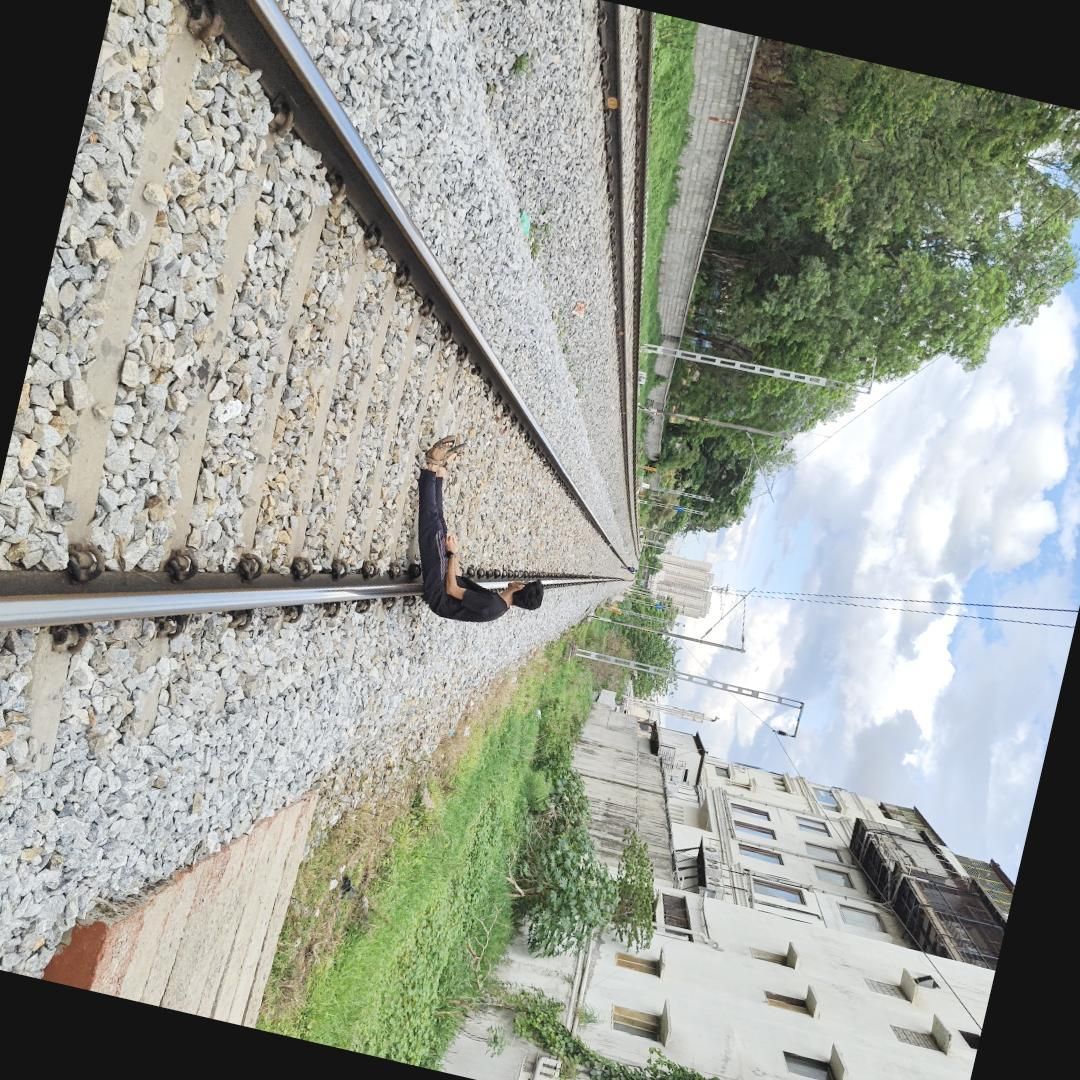sitting: (403, 420, 550, 641)
